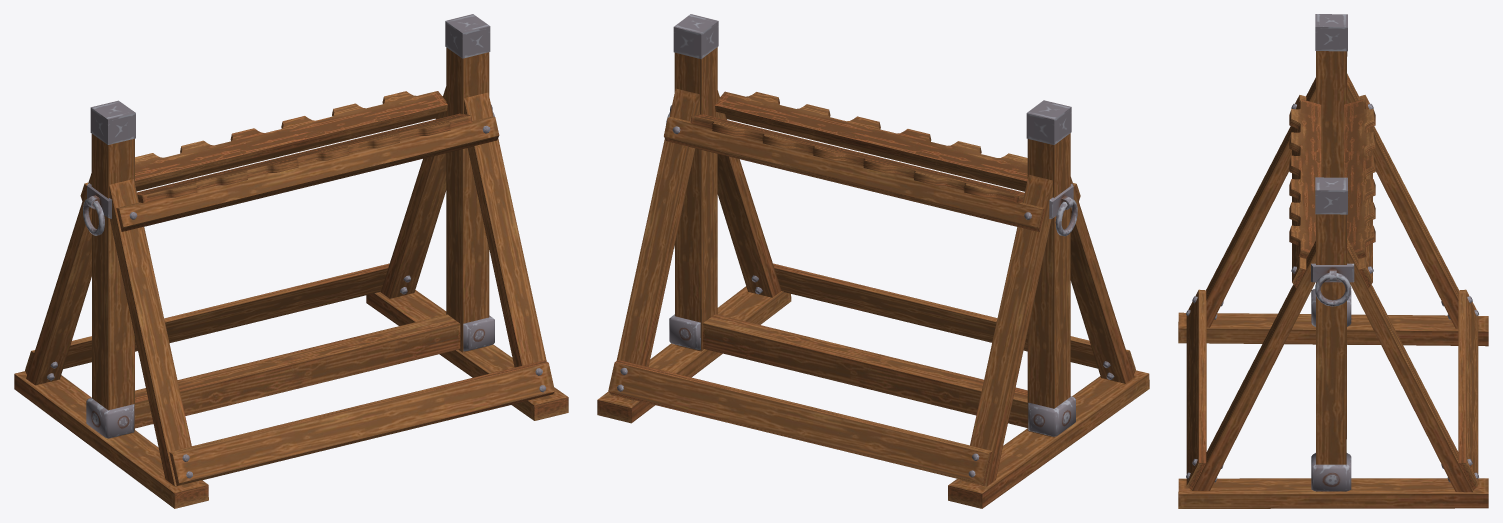
The model's file is weaponstand.gltf.
3 renders of one model, left to right at view 1: azimuth 30°, elevation 25°; view 2: azimuth 150°, elevation 25°; view 3: azimuth 270°, elevation 25°, orthographic. The views are drawn at different scales.
Parts seen in each view (by area): view 1: WeaponStand; view 2: WeaponStand; view 3: WeaponStand.
Part boxes in pixels (left/top/right/bottom): WeaponStand: left=14, top=14, right=568, bottom=508; WeaponStand: left=597, top=14, right=1149, bottom=508; WeaponStand: left=1178, top=14, right=1488, bottom=508.
Bounding box in the file's own units: 1.39 × 1.11 × 0.9831.
2 materials, 2 textured.
